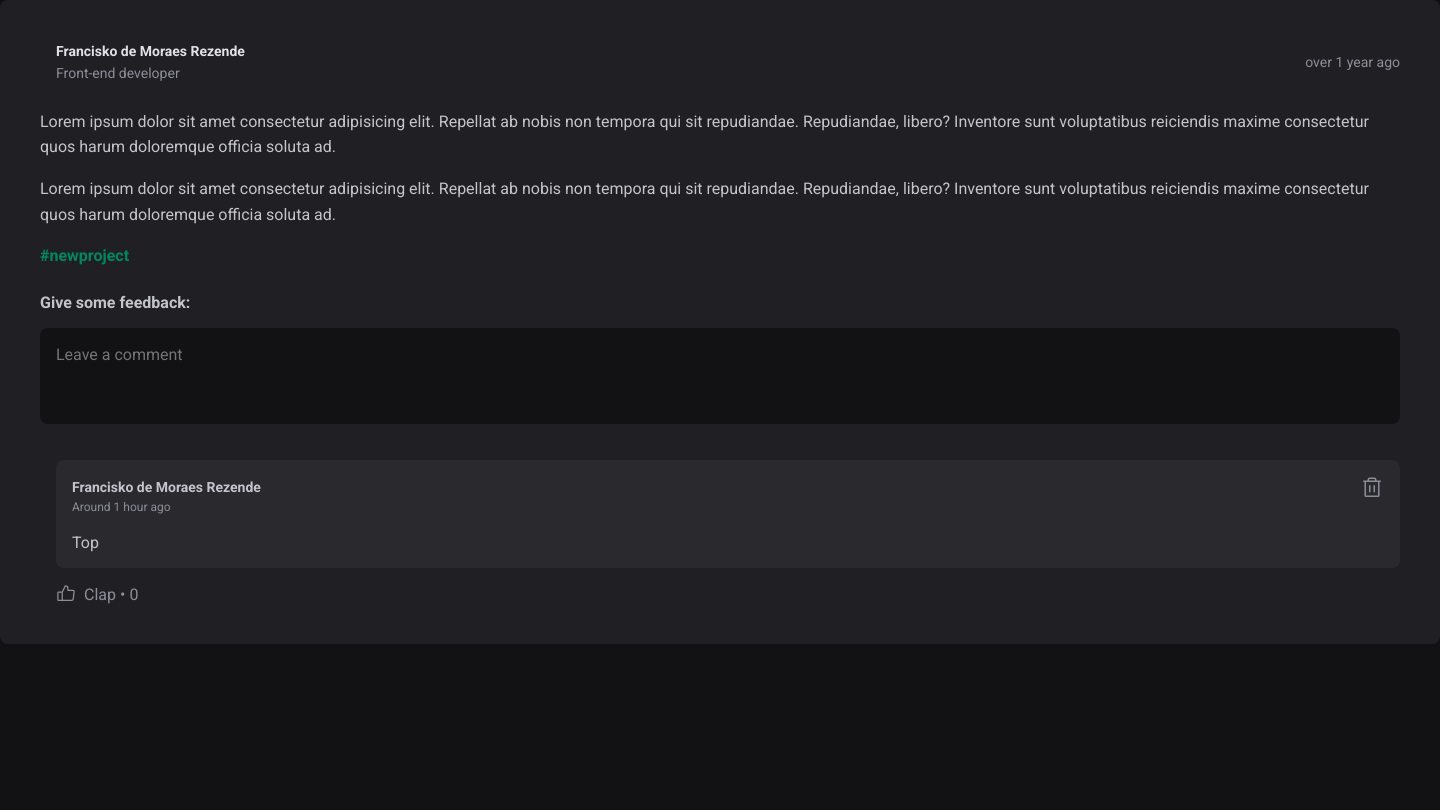
Post › should delete posts
Type "new comment" into the text box labelled "Give some feedback:".
click(720, 376); type("new comment")  # box [40,328,1400,424]
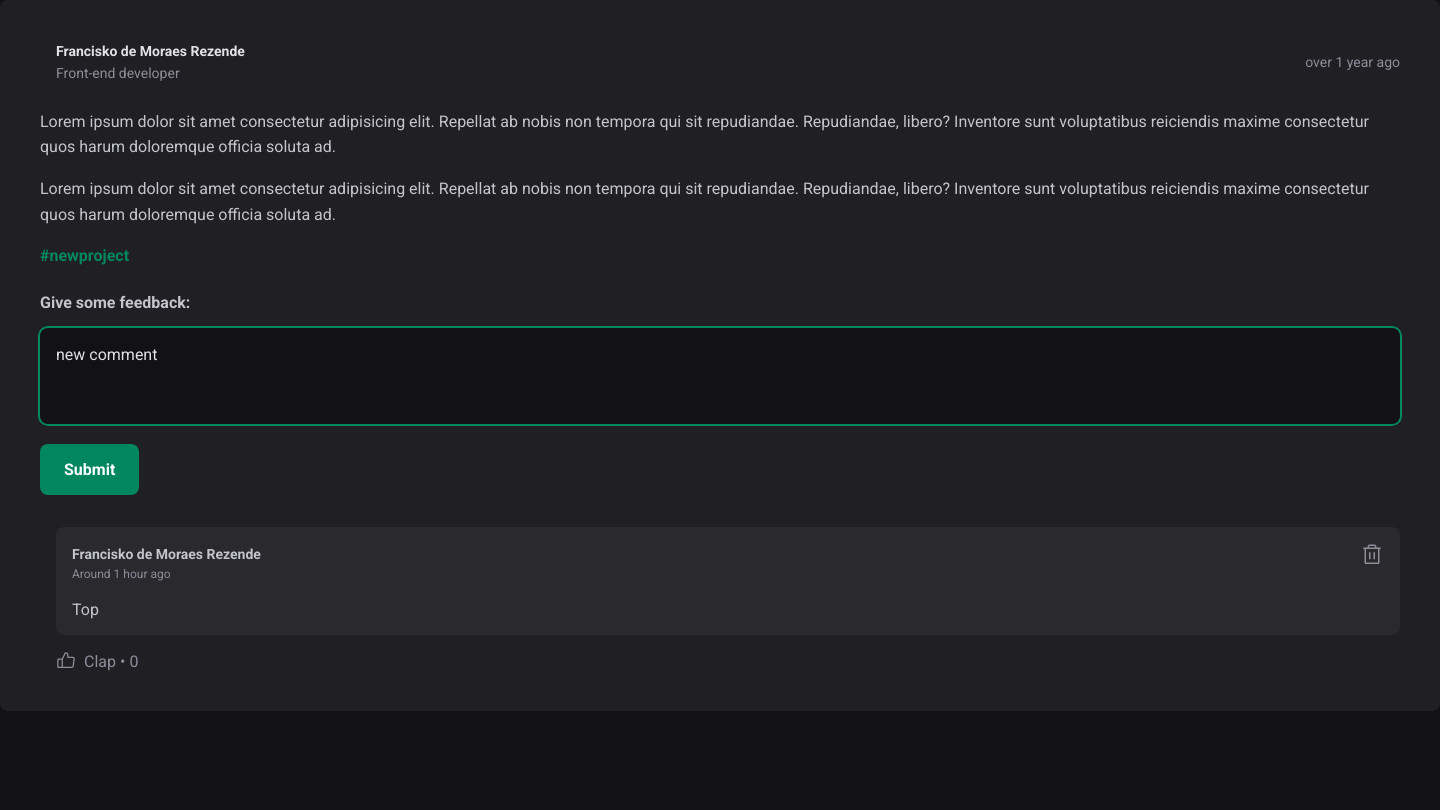
Click the button "Submit".
click(90, 469)  # box [40,444,139,495]
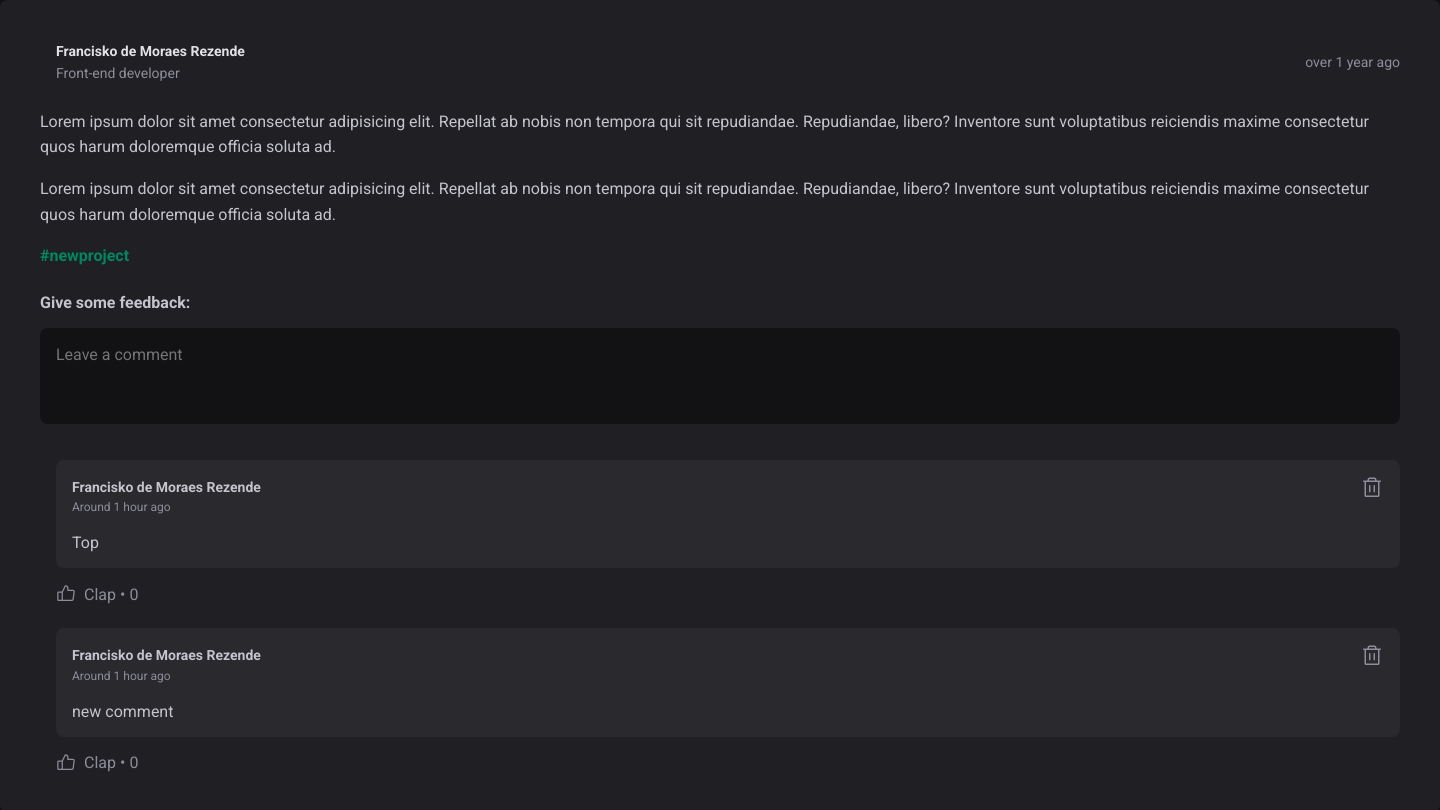
Click the button titled "delete comment new comment".
click(1372, 656)  # box [1360,644,1384,668]
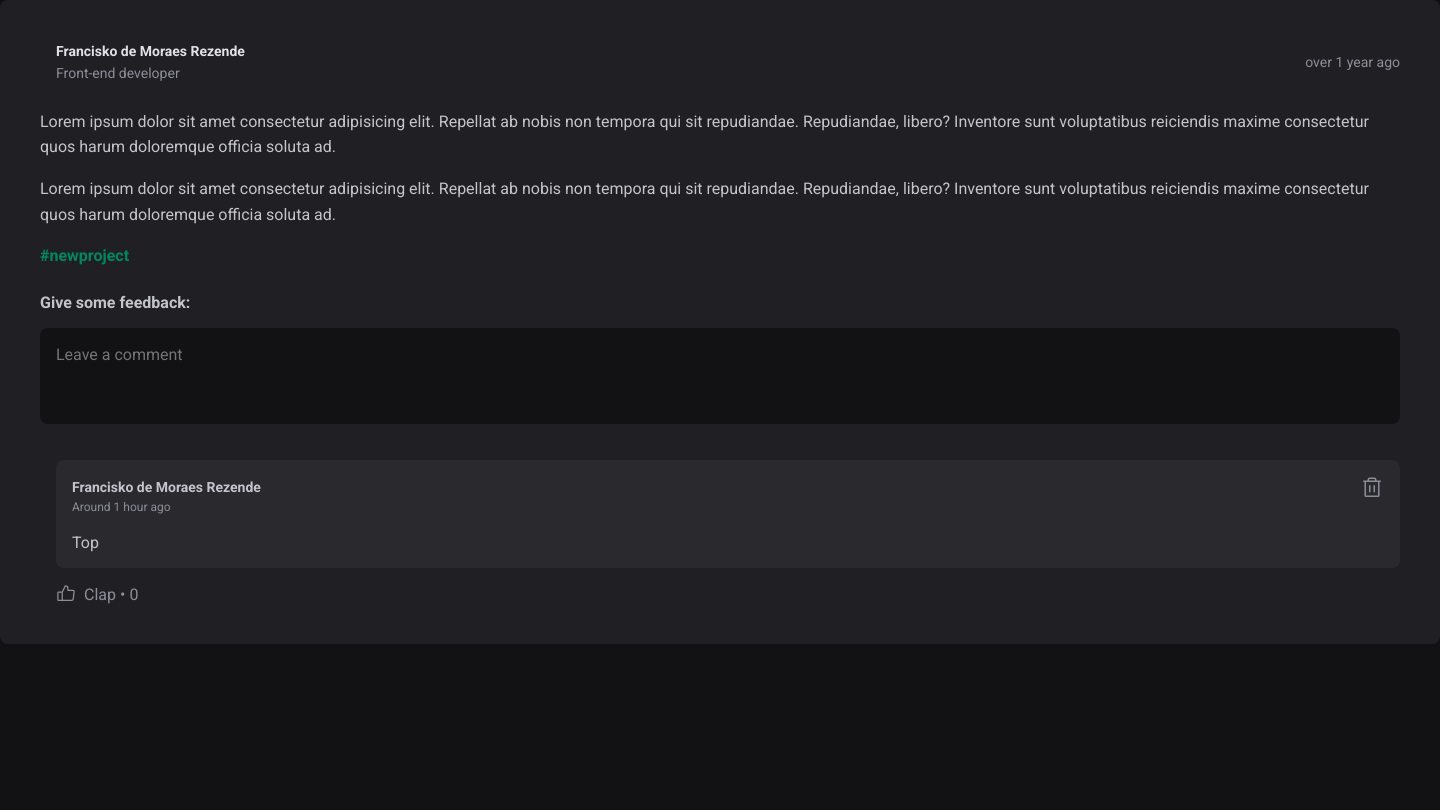
Now the text "new comment" is gone
